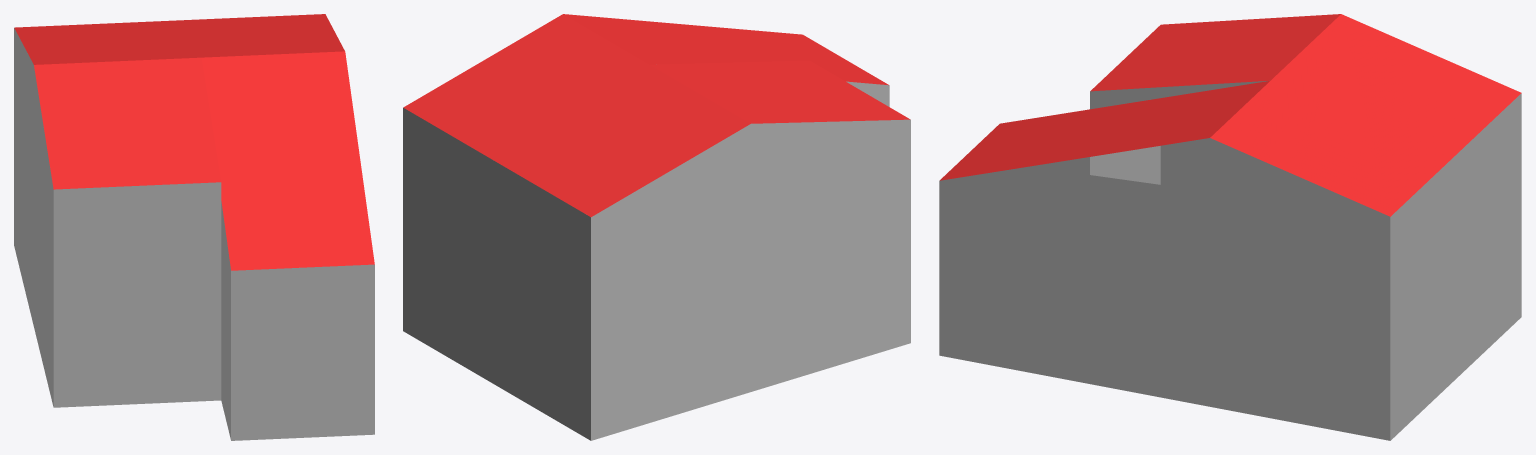
File: pb-9635c10d-7f36-11f0-b0ad-9c7bef4dcf4c.dae
The picture shows the model from 3 angles, left to right: view 1: azimuth 30°, elevation 25°; view 2: azimuth 150°, elevation 25°; view 3: azimuth 270°, elevation 25°; orthographic projection. The views are drawn at different scales.
Size of the model in its own units: 9.2 by 11.78 by 6.
